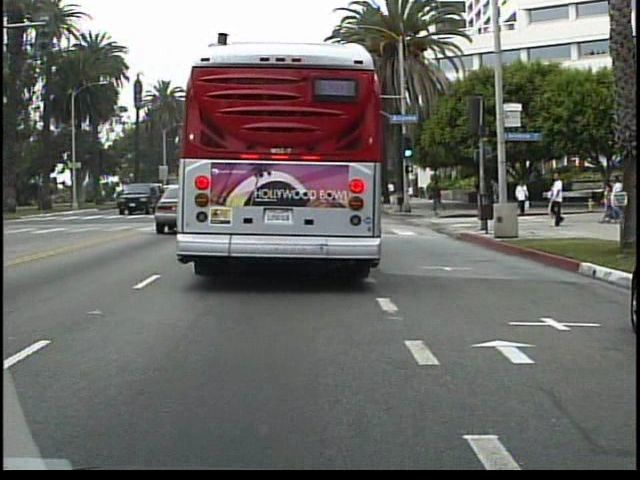person: (549, 169, 570, 227), (487, 175, 505, 215), (431, 177, 447, 217), (518, 178, 532, 216)
